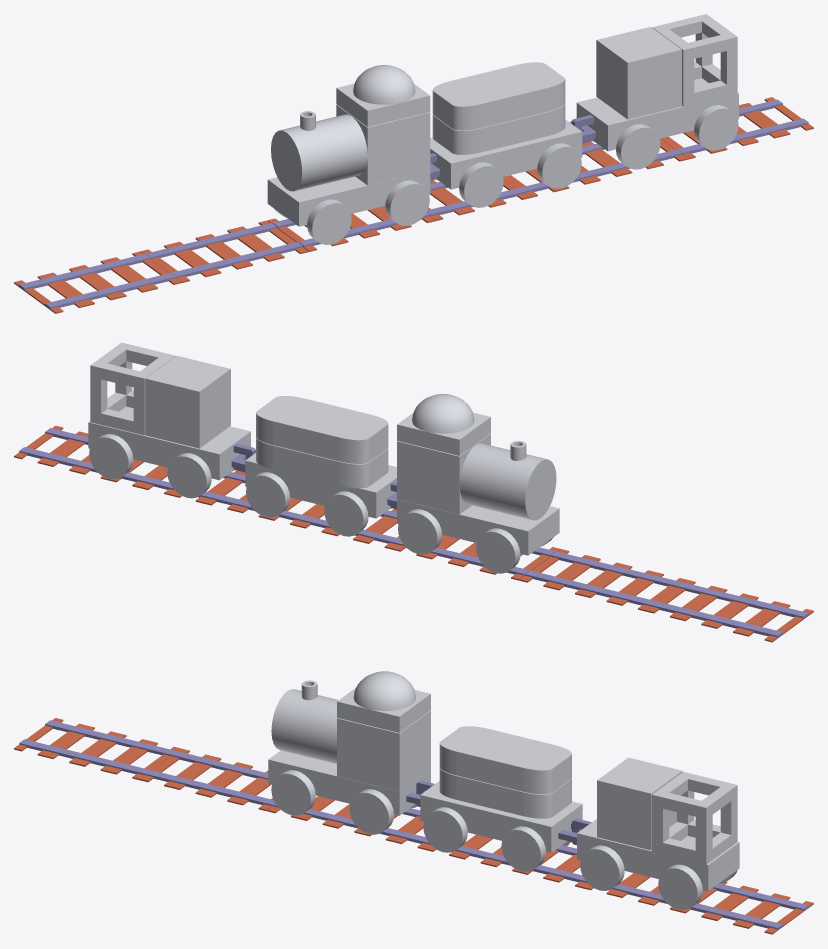
File: 玩具火车.fbx
The picture shows the model from 3 angles, top to bottom: view 1: azimuth 30°, elevation 25°; view 2: azimuth 150°, elevation 25°; view 3: azimuth 330°, elevation 25°; orthographic projection.
Parts seen in each view (by area): view 1: block (×6), track_mineStraight (×6), cylinder (×7), cylinderSquare (×2), block_hollow, sphere_half; view 2: block (×6), track_mineStraight (×6), cylinder (×7), cylinderSquare (×2), block_hollow, sphere_half; view 3: block (×6), track_mineStraight (×6), cylinder (×7), cylinderSquare (×2), block_hollow, sphere_half.
Boxes of the visible parts, x1,y1,x2,y2 form: block (×6): (267, 26, 738, 226); track_mineStraight (×6): (14, 97, 813, 313); cylinder (×7): (271, 105, 738, 244); cylinderSquare (×2): (432, 62, 565, 154); block_hollow: (652, 14, 737, 106); sphere_half: (353, 65, 415, 104); block (×6): (88, 355, 559, 555); track_mineStraight (×6): (14, 425, 813, 642); cylinder (×7): (89, 434, 556, 573); cylinderSquare (×2): (256, 396, 388, 488); block_hollow: (90, 342, 175, 435); sphere_half: (412, 394, 474, 433); block (×6): (268, 688, 739, 890); track_mineStraight (×6): (14, 718, 813, 934); cylinder (×7): (271, 689, 702, 909); cylinderSquare (×2): (439, 726, 571, 818); block_hollow: (652, 772, 737, 864); sphere_half: (353, 671, 415, 710).
Size of the model in its own units: 140 by 25.45 by 13.26.
